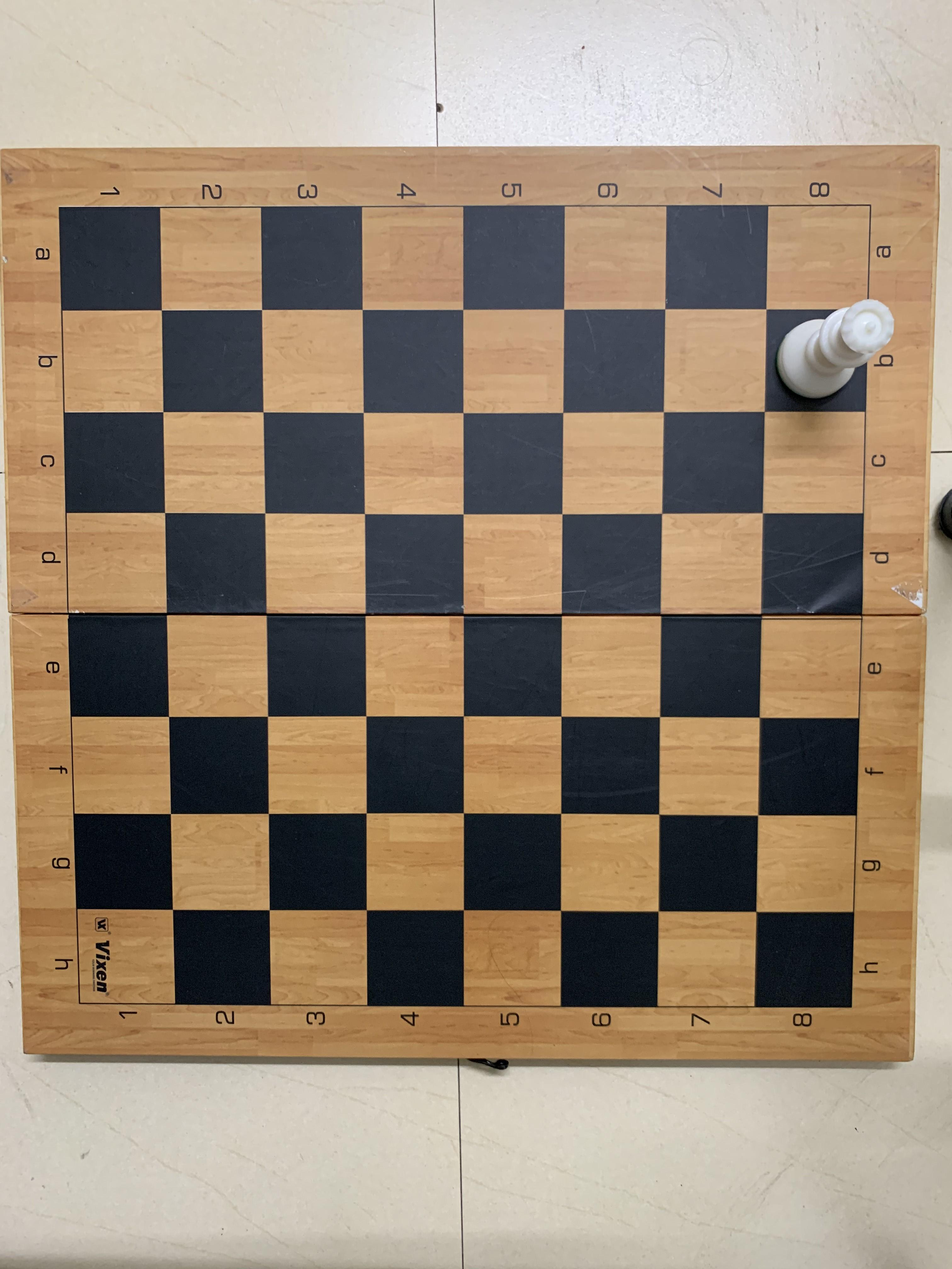white_queen: (763, 296, 896, 412)
